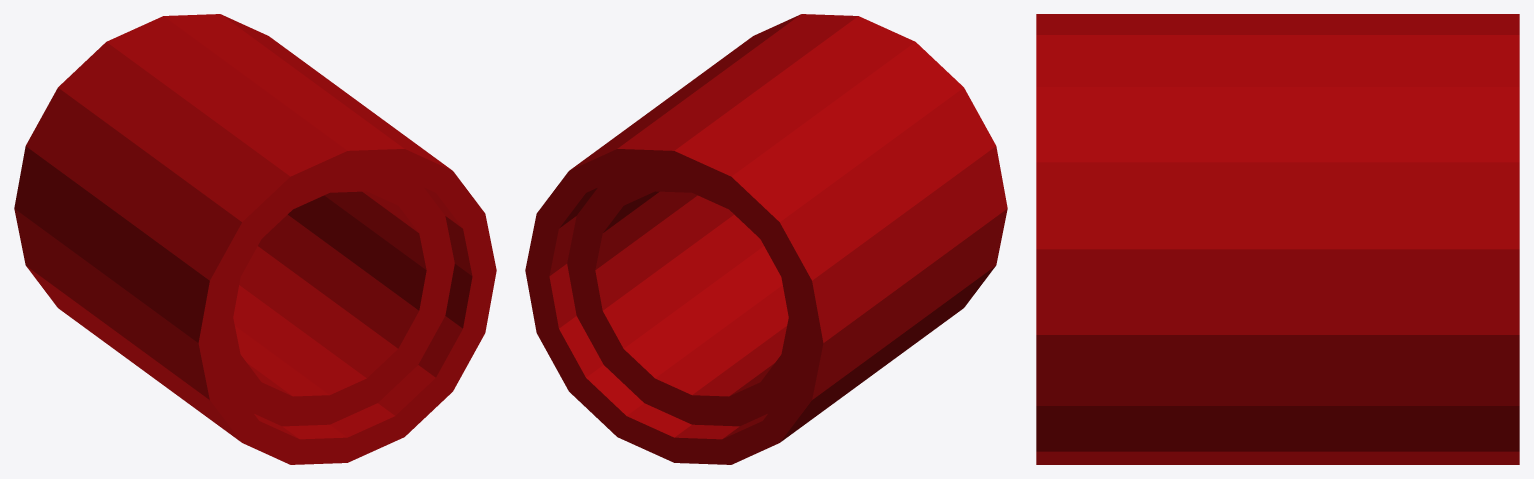
Rendered from 18654 beam 1M.dae.
3 renders of one model, left to right at view 1: azimuth 30°, elevation 25°; view 2: azimuth 150°, elevation 25°; view 3: azimuth 270°, elevation 25°, orthographic. The views are drawn at different scales.
Visible parts, largest first — view 1: Part_18654.1; view 2: Part_18654.1; view 3: Part_18654.1.
Boxes of the visible parts, <box> form: Part_18654.1: <box>14,14,496,464</box>; Part_18654.1: <box>525,14,1007,464</box>; Part_18654.1: <box>1036,14,1519,464</box>.
Size of the model in its own units: 7.4 by 7.4 by 7.92.
